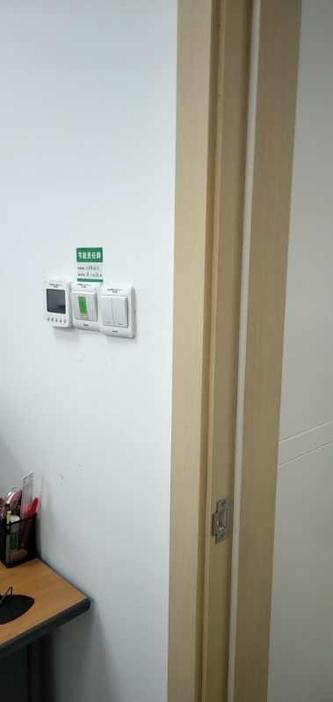switch: (71, 287, 100, 325), (97, 291, 118, 329), (111, 293, 131, 330)
